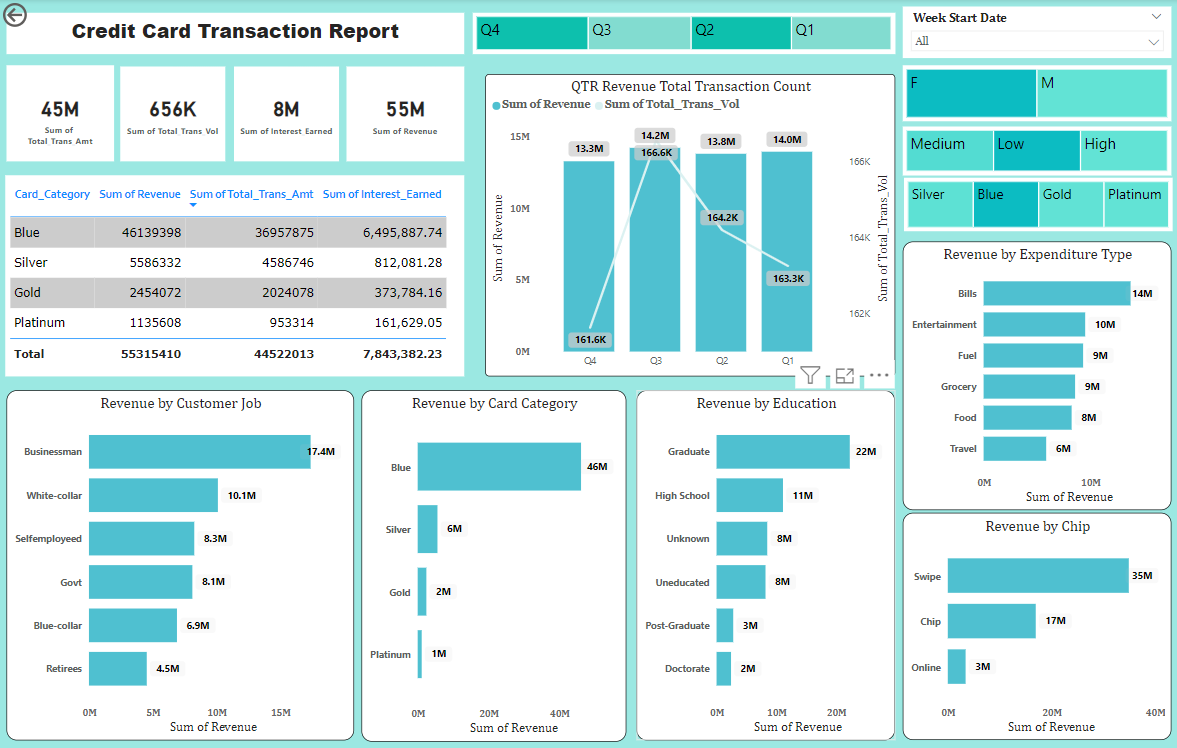

The page's visual inventory and layout, read from the dashboard file:
{"tool":"powerbi","page":{"name":"CC Transaction","canvas":[1480,950],"ordinal":0},"visuals":[{"type":"textbox","box":[9.4,17.3,574.9,51.8],"z":0},{"type":"lineClusteredColumnComboChart","title":"QTR Revenue Total Transaction Count","fields":{"Category":["practisepowerbi cc_detail.Qtr"],"Y":["Sum(practisepowerbi cc_detail.Revenue)"],"Y2":["Sum(practisepowerbi cc_detail.Total_Trans_Vol)"]},"box":[611,94.2,515.2,380.1],"z":1000},{"type":"clusteredBarChart","title":"Revenue by Expenditure Type","fields":{"Category":["practisepowerbi cc_detail.Exp Type"],"Y":["Sum(practisepowerbi cc_detail.Revenue)"]},"box":[1135.7,304.7,337.7,337.7],"z":2000},{"type":"clusteredBarChart","title":"Revenue by Education","fields":{"Category":["practisepowerbi cust_detail.Education_Level"],"Y":["Sum(practisepowerbi cc_detail.Revenue)"]},"box":[801.1,491.7,325.2,439.8],"z":3000},{"type":"clusteredBarChart","title":"Revenue by Customer Job","fields":{"Category":["practisepowerbi cust_detail.Customer_Job"],"Y":["Sum(practisepowerbi cc_detail.Revenue)"]},"box":[9.4,491.7,436.7,439.8],"z":4000},{"type":"clusteredBarChart","title":"Revenue by Card Category","fields":{"Category":["practisepowerbi cc_detail.Card_Category"],"Y":["Sum(practisepowerbi cc_detail.Revenue)"]},"box":[455.5,491.7,333,441.4],"z":5000},{"type":"clusteredBarChart","title":"Revenue by Chip","fields":{"Category":["practisepowerbi cc_detail.Use Chip"],"Y":["Sum(practisepowerbi cc_detail.Revenue)"]},"box":[1135.7,645.6,337.7,285.9],"z":6000},{"type":"tableEx","fields":{"Values":["practisepowerbi cc_detail.Card_Category","Sum(practisepowerbi cc_detail.Revenue)","Sum(practisepowerbi cc_detail.Total_Trans_Amt)","Sum(practisepowerbi cc_detail.Interest_Earned)"]},"box":[7.9,221.5,576.5,252.9],"z":7000},{"type":"card","fields":{"Values":["Sum(practisepowerbi cc_detail.Revenue)"]},"box":[436.7,84.8,147.7,119.4],"z":8000},{"type":"card","title":"Total Trans AMT","fields":{"Values":["Sum(practisepowerbi cc_detail.Total_Trans_Amt)"]},"box":[9.4,83.3,135.1,120.9],"z":9000},{"type":"card","fields":{"Values":["Sum(practisepowerbi cc_detail.Interest_Earned)"]},"box":[295.3,84.8,131.9,119.4],"z":10000},{"type":"card","fields":{"Values":["Sum(practisepowerbi cc_detail.Total_Trans_Vol)"]},"box":[152.4,84.8,131.9,119.4],"z":11000},{"type":"actionButton","box":[0,0,100,40],"z":12000},{"type":"slicer","fields":{"Values":["practisepowerbi cc_detail.Week_Start_Date"]},"box":[1135.7,9.4,337.7,64.4],"z":13000},{"type":"treemap","fields":{"Group":["practisepowerbi cc_detail.Qtr"],"Values":["Avg(practisepowerbi cc_detail.ï»¿Client_Num)"]},"box":[595.3,17.3,530.9,51.8],"z":14000},{"type":"treemap","fields":{"Group":["practisepowerbi cust_detail.Gender"],"Values":["Avg(practisepowerbi cc_detail.ï»¿Client_Num)"]},"box":[1135.7,83.3,337.7,70.7],"z":15000},{"type":"treemap","fields":{"Group":["practisepowerbi cc_detail.Card_Category"],"Values":["Avg(practisepowerbi cc_detail.ï»¿Client_Num)"]},"box":[1137.2,224.6,337.7,67.5],"z":16000},{"type":"treemap","fields":{"Group":["practisepowerbi cust_detail.incomeGroup"],"Values":["Avg(practisepowerbi cc_detail.ï»¿Client_Num)"]},"box":[1135.7,160.2,337.7,61.3],"z":17000}]}

Visuals, with their boxes in screenshot pixels (x1, y1, x2, y2), scaled from the page's 1480x950 canvas onto the 1177x748 screenshot:
textbox: (7, 14, 465, 54)
"QTR Revenue Total Transaction Count" lineClusteredColumnComboChart: (486, 74, 896, 373)
"Revenue by Expenditure Type" clusteredBarChart: (903, 240, 1172, 506)
"Revenue by Education" clusteredBarChart: (637, 387, 896, 733)
"Revenue by Customer Job" clusteredBarChart: (7, 387, 355, 733)
"Revenue by Card Category" clusteredBarChart: (362, 387, 627, 735)
"Revenue by Chip" clusteredBarChart: (903, 508, 1172, 733)
tableEx - practisepowerbi cc_detail.Card_Category x Sum(practisepowerbi cc_detail.Revenue): (6, 174, 465, 374)
card - Sum(practisepowerbi cc_detail.Revenue): (347, 67, 465, 161)
"Total Trans AMT" card: (7, 66, 115, 161)
card - Sum(practisepowerbi cc_detail.Interest_Earned): (235, 67, 340, 161)
card - Sum(practisepowerbi cc_detail.Total_Trans_Vol): (121, 67, 226, 161)
actionButton: (0, 0, 80, 31)
slicer - practisepowerbi cc_detail.Week_Start_Date: (903, 7, 1172, 58)
treemap - practisepowerbi cc_detail.Qtr x Avg(practisepowerbi cc_detail.ï»¿Client_Num): (473, 14, 896, 54)
treemap - practisepowerbi cust_detail.Gender x Avg(practisepowerbi cc_detail.ï»¿Client_Num): (903, 66, 1172, 121)
treemap - practisepowerbi cc_detail.Card_Category x Avg(practisepowerbi cc_detail.ï»¿Client_Num): (904, 177, 1173, 230)
treemap - practisepowerbi cust_detail.incomeGroup x Avg(practisepowerbi cc_detail.ï»¿Client_Num): (903, 126, 1172, 174)
